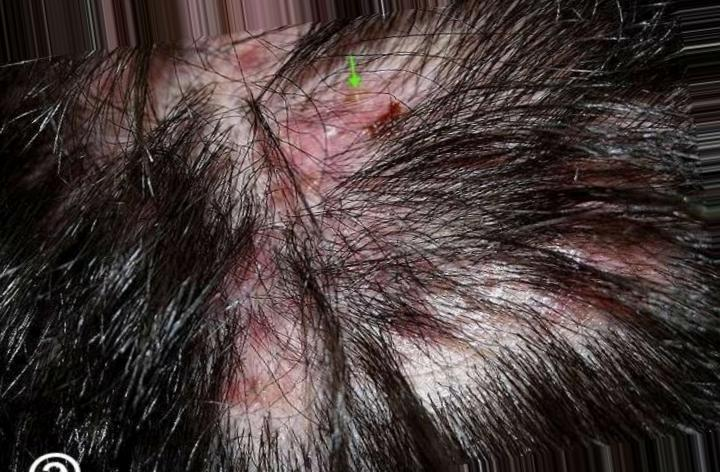Folliculitis: (201, 15, 518, 374)
